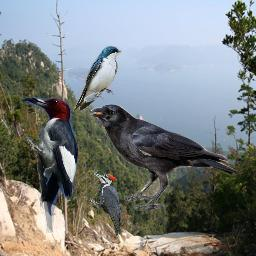Crow: (90, 103, 238, 211)
Swallow: (73, 46, 122, 112)
Woodpecker: (24, 96, 78, 233), (88, 172, 124, 238)
